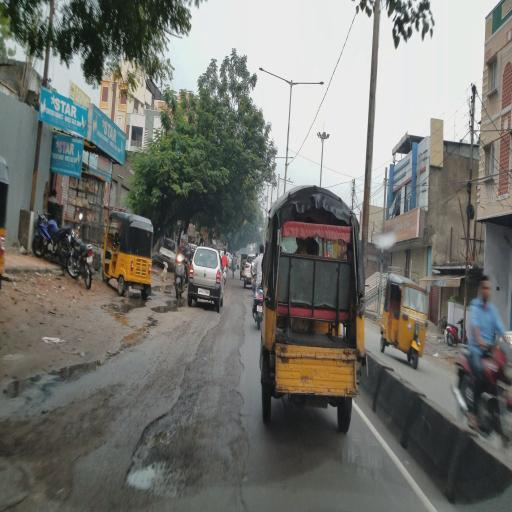street_light_0: (256, 50, 290, 100), (286, 62, 328, 100), (268, 138, 298, 166)
